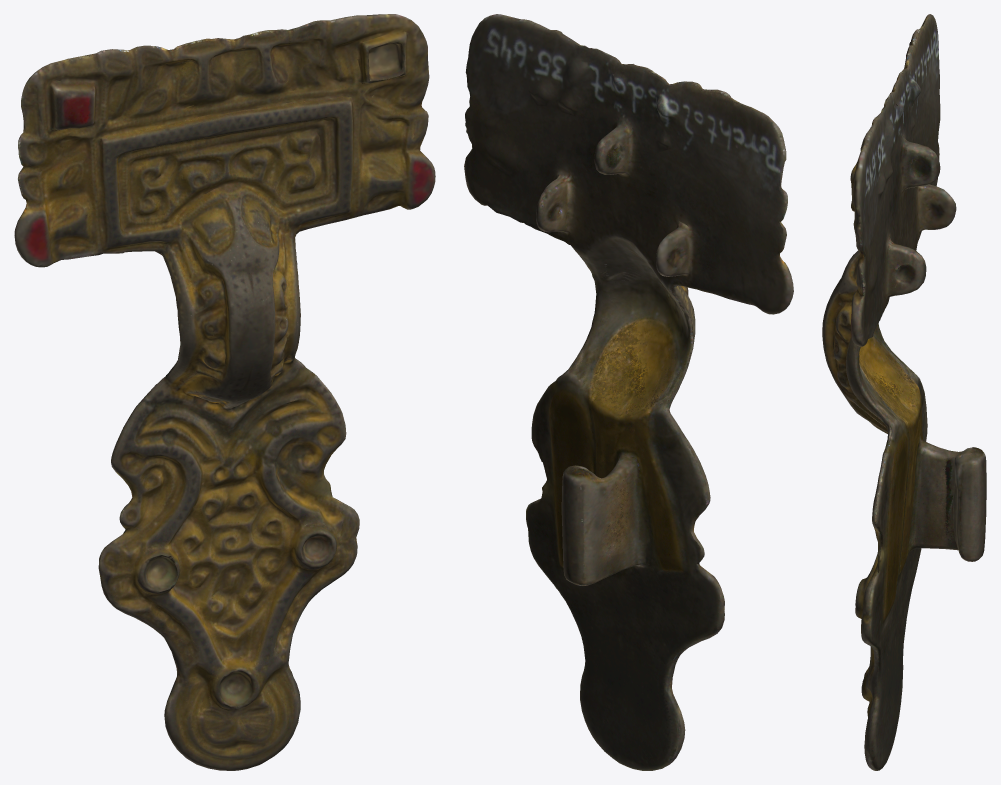
Rendered from brooch2.glb.
The picture shows the model from 3 angles, left to right: view 1: azimuth 30°, elevation 25°; view 2: azimuth 150°, elevation 25°; view 3: azimuth 270°, elevation 25°; orthographic projection. The views are drawn at different scales.
Parts seen in each view (by area): view 1: Object_2; view 2: Object_2; view 3: Object_2.
Boxes of the visible parts, x1,y1,x2,y2 form: Object_2: [14, 14, 435, 770]; Object_2: [464, 14, 793, 770]; Object_2: [822, 14, 986, 770].
Size of the model in its own units: 0.1289 by 0.2388 by 0.0522.
Materials: 1 (1 with a texture image).
